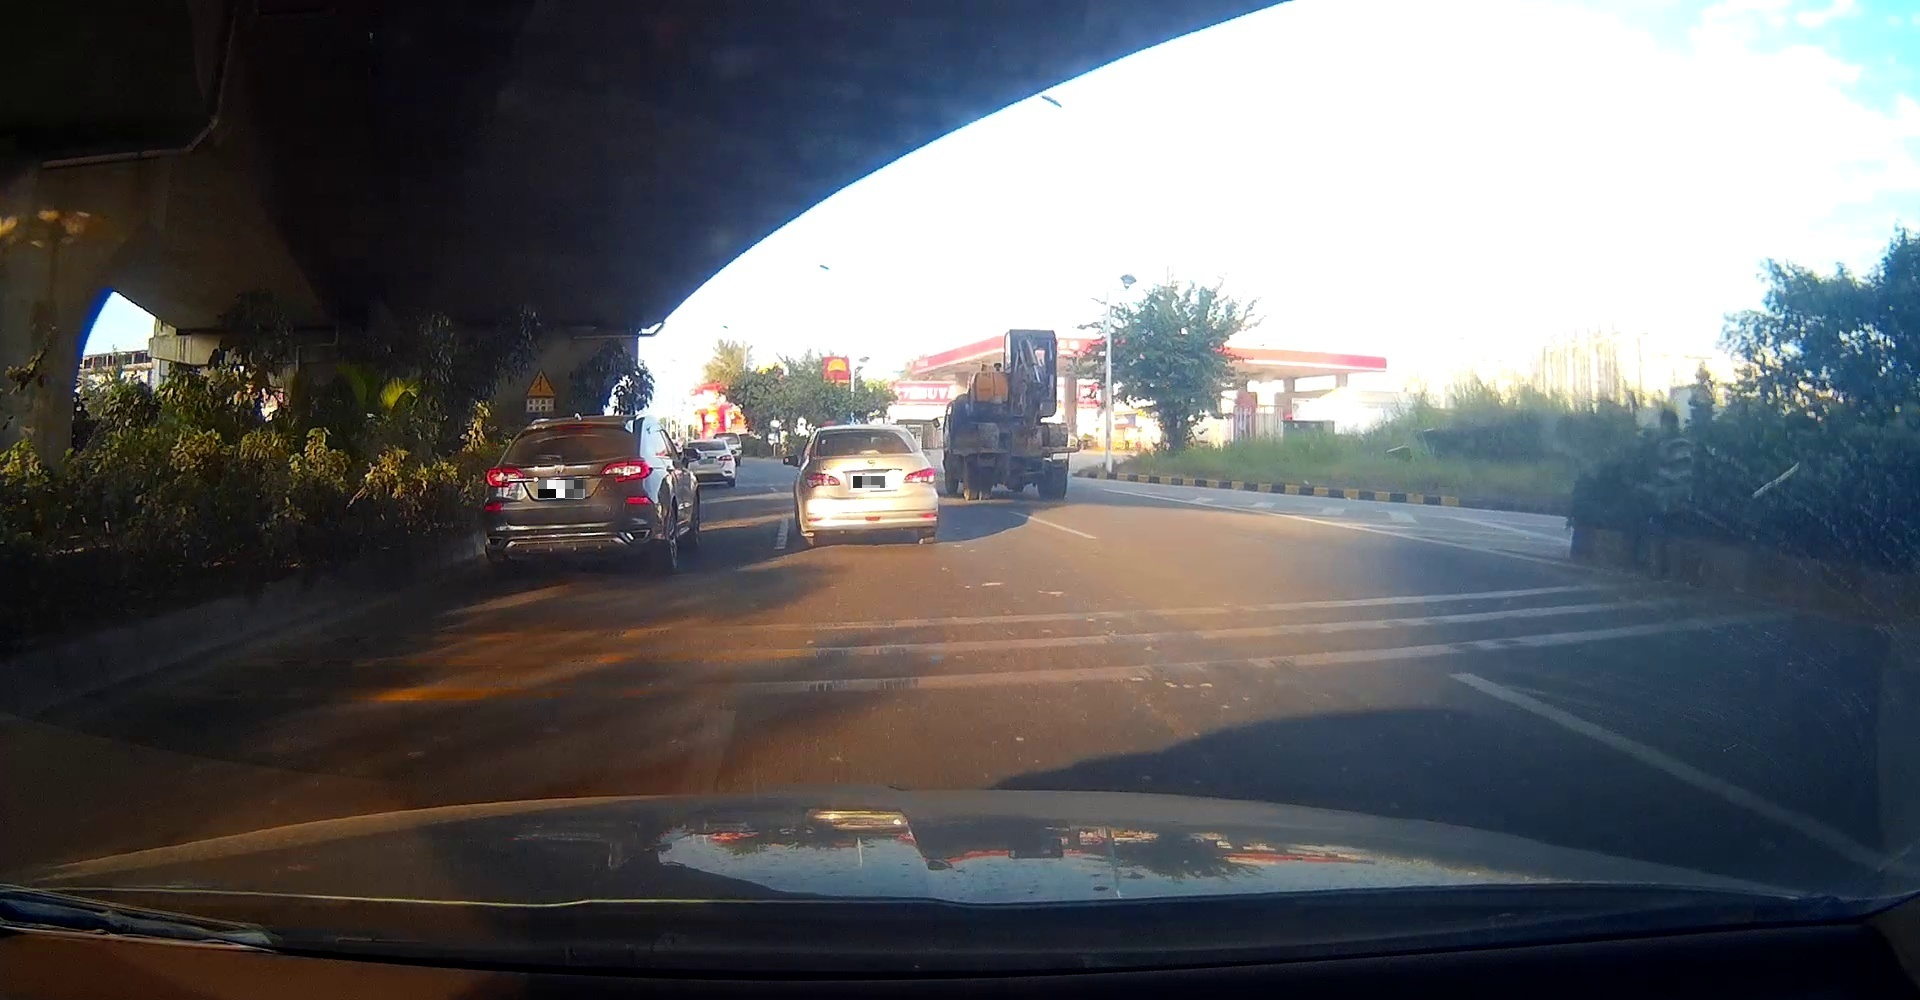L_light: (485, 467, 523, 487), (804, 472, 841, 489)
R_light: (601, 459, 649, 484), (903, 467, 936, 484)
T_light: (565, 425, 589, 430), (858, 431, 881, 434)
day-no: (483, 416, 651, 577), (803, 425, 938, 546)
plate_1: (538, 480, 585, 499)
plate_2: (853, 476, 885, 489)
